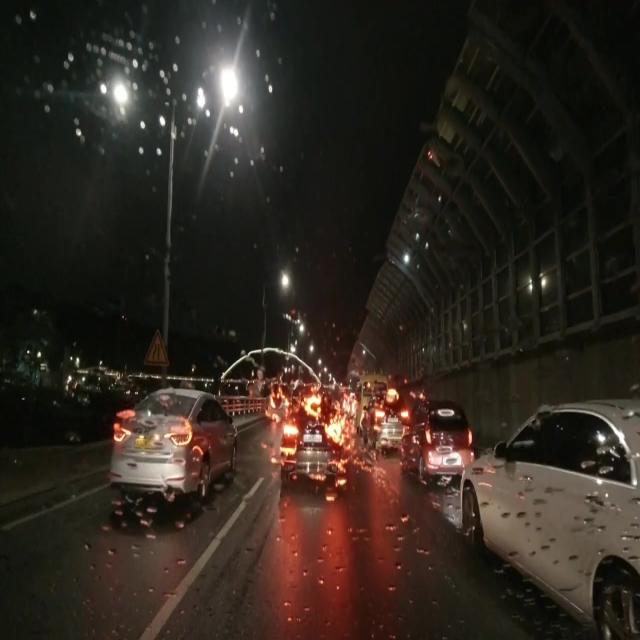Car: (463, 384, 636, 633), (112, 384, 235, 506), (400, 395, 470, 487), (282, 392, 345, 484), (362, 396, 405, 455)
